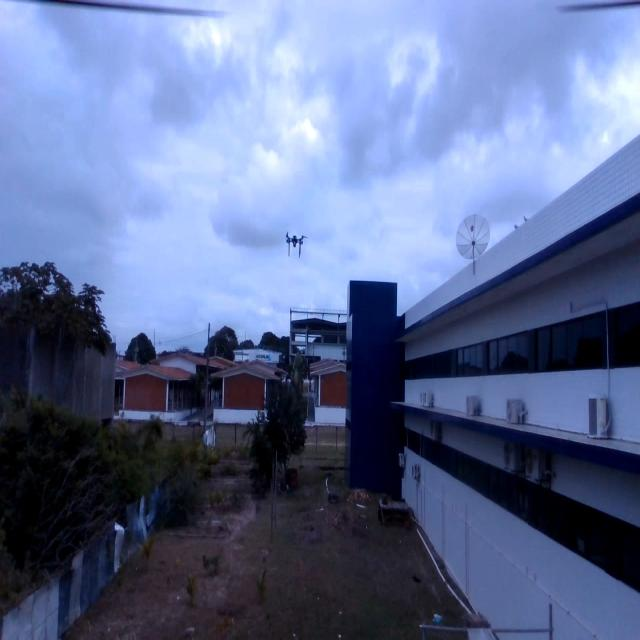-uav-: (282, 212, 314, 275)
